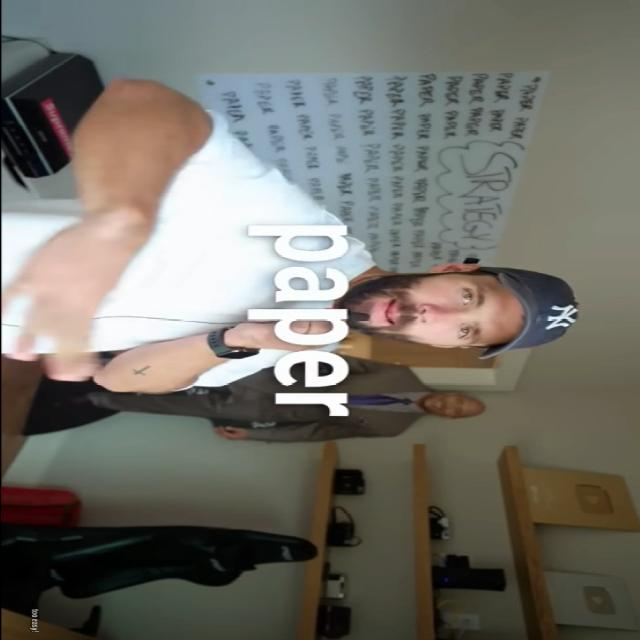Paper: (2, 214, 154, 381)
